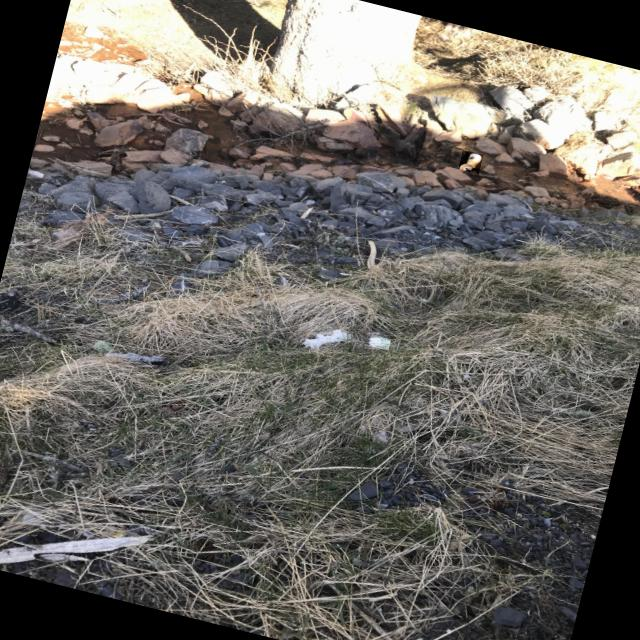Other plastic: (369, 336, 388, 346)
Other plastic bottle: (458, 153, 481, 170)
Unlabeled litter: (302, 329, 350, 350)
